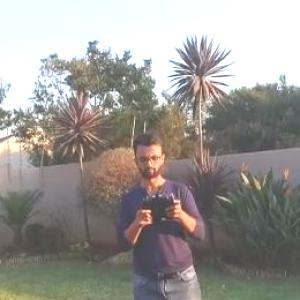follow: (112, 123, 217, 299)
